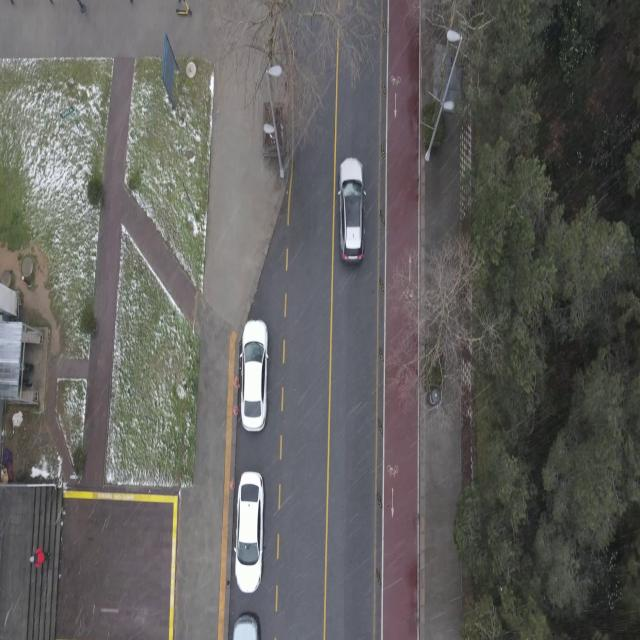p3rson: (28, 544, 54, 568), (18, 375, 33, 389)
